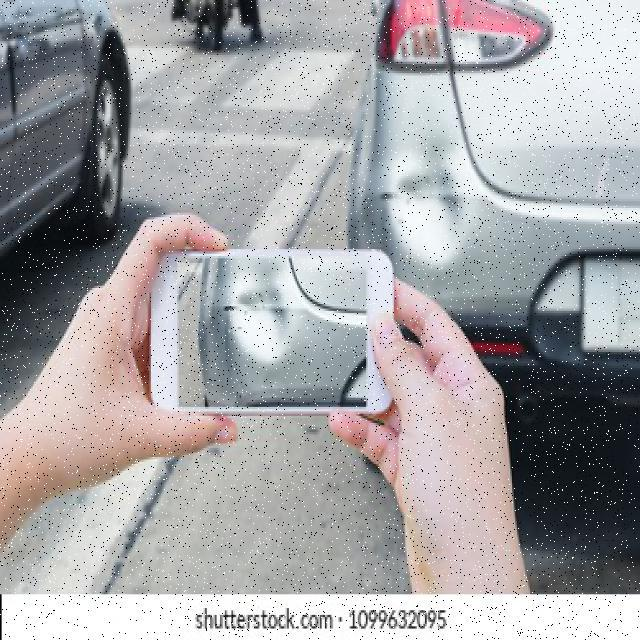rear-bumper-dent: (345, 66, 545, 390)
